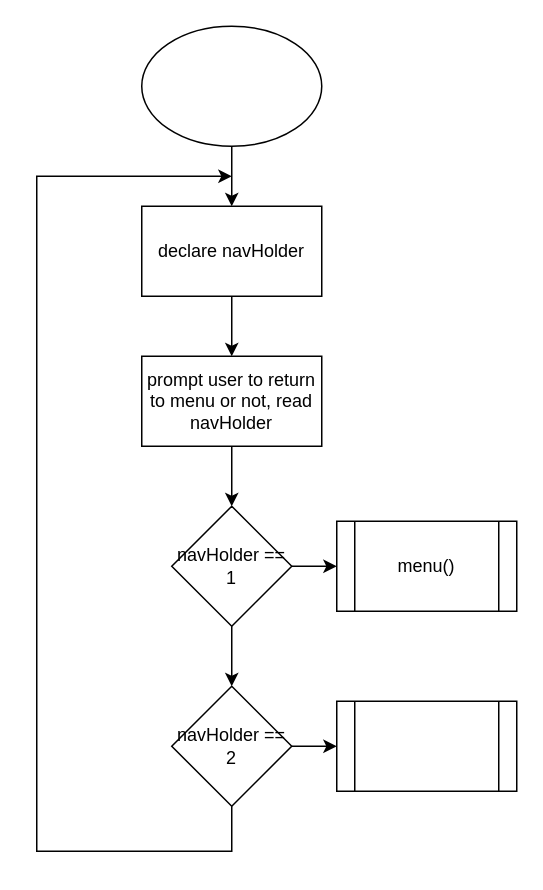
This 543x890 diagram has some shape labels left out. The box of each missing label's shape, as (x1, y1, x2, y2) in pixels:
Begin: (140, 25, 322, 146)
exitMenu(): (335, 700, 517, 791)
